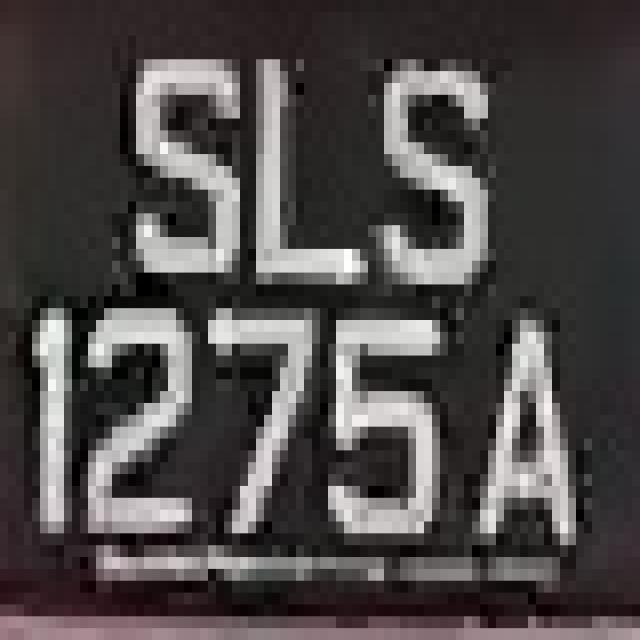1: (24, 249, 88, 581)
2: (88, 284, 216, 569)
5: (328, 272, 472, 592)
7: (192, 284, 312, 534)
A: (464, 249, 576, 569)
L: (232, 12, 352, 320)
S: (120, 24, 256, 344), (352, 36, 504, 296)
